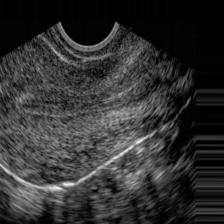no-pcos: (4, 57, 180, 224)
